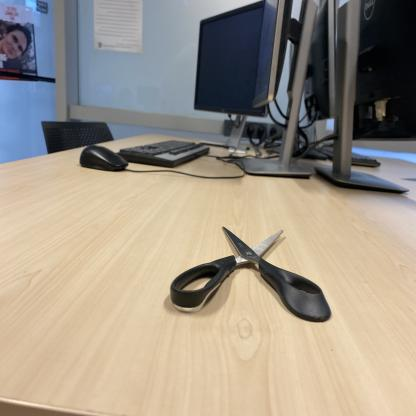scissors: (169, 225, 334, 322)
